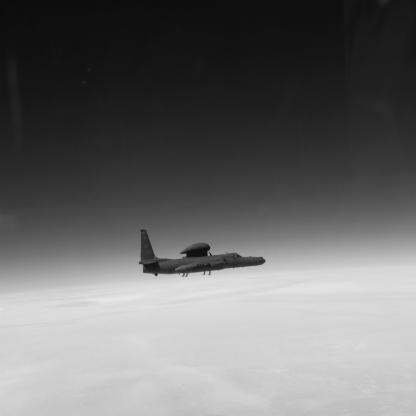U2: (139, 230, 267, 278)
